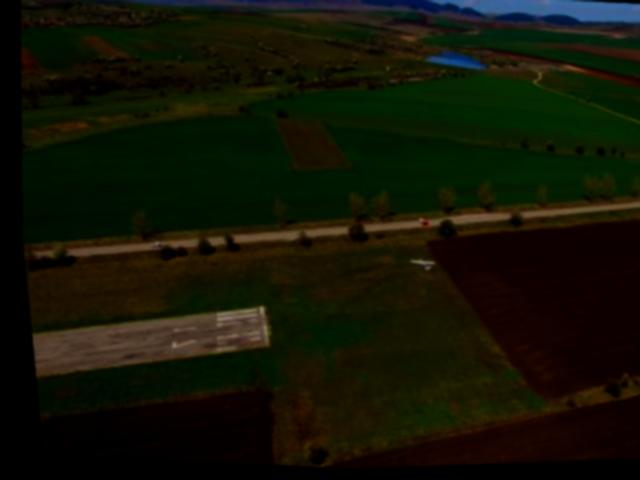uav: (398, 251, 436, 282)
